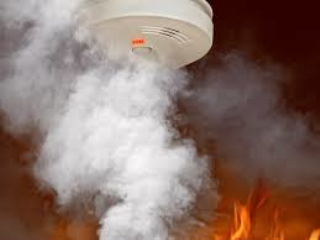smoke: (23, 49, 209, 239)
